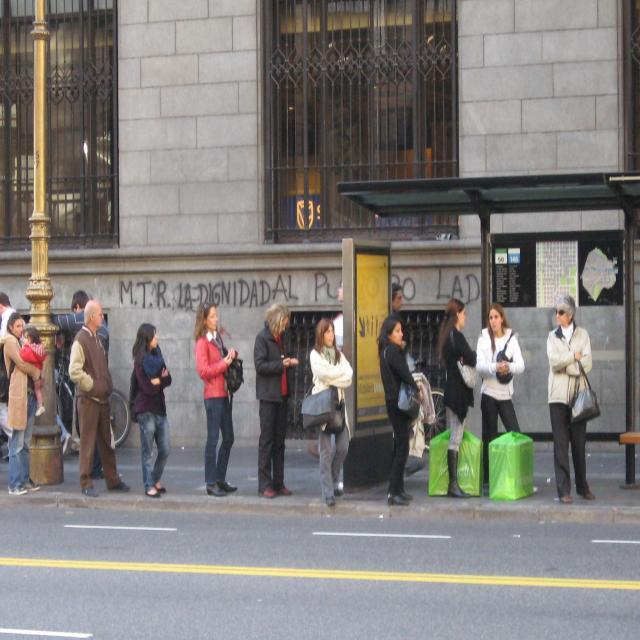body: (67, 298, 132, 498), (475, 300, 539, 495), (546, 294, 602, 506), (192, 300, 246, 499), (300, 316, 356, 507), (252, 301, 300, 500), (434, 297, 480, 501), (376, 314, 424, 506), (0, 312, 46, 498), (128, 320, 173, 500), (0, 290, 30, 460), (53, 288, 109, 357), (19, 328, 47, 417), (386, 281, 406, 324), (54, 411, 72, 454), (337, 277, 343, 303)
